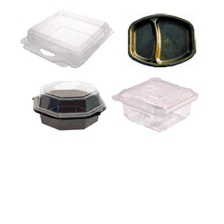plastic_box: (12, 4, 118, 70), (107, 73, 204, 136), (25, 74, 110, 135), (121, 6, 199, 72)
